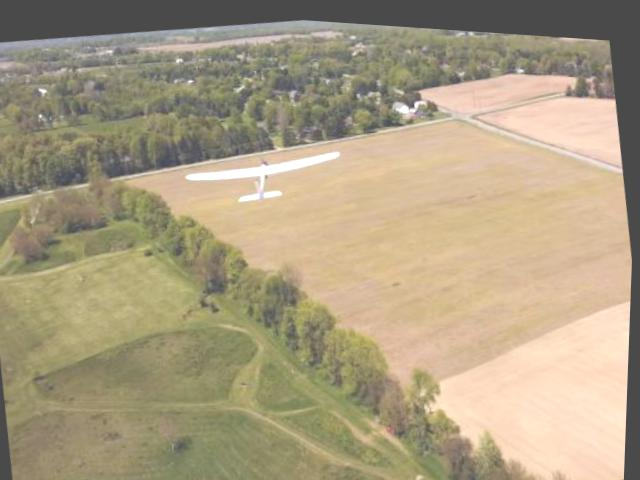uav: (178, 122, 355, 220)
